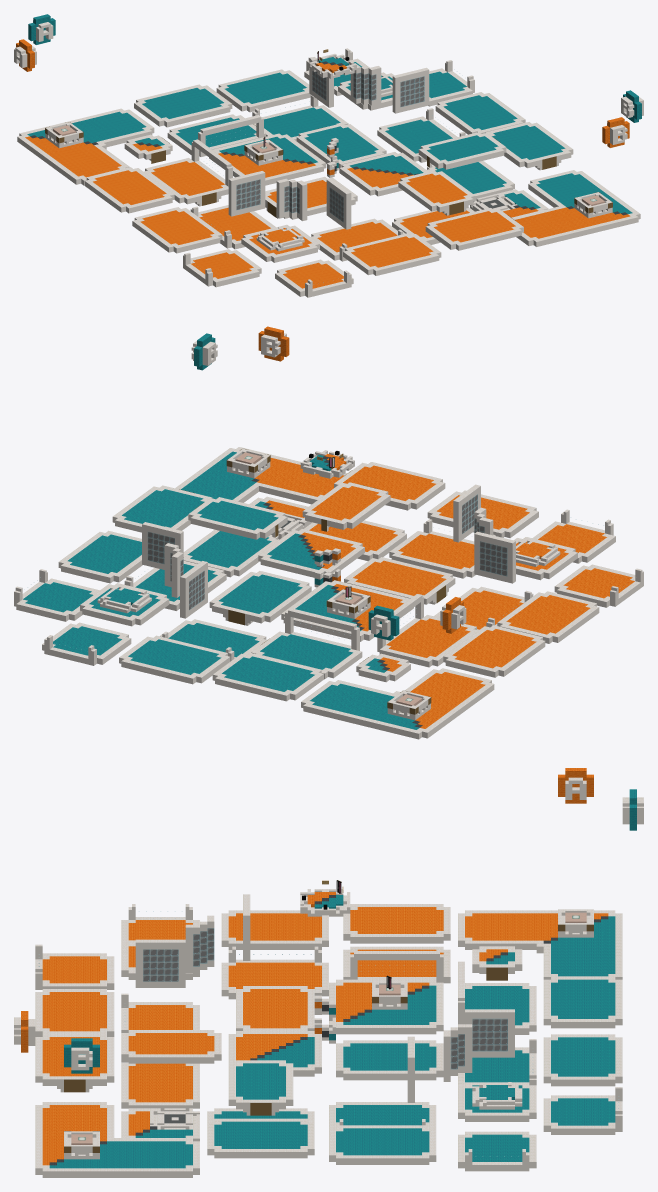
Rendered from minecraft.obj.
The picture shows the model from 3 angles, top to bottom: view 1: azimuth 30°, elevation 25°; view 2: azimuth 150°, elevation 25°; view 3: azimuth 270°, elevation 25°; orthographic projection. The views are drawn at different scales.
Bounding box in the file's own units: 88 × 26.96 × 88.
